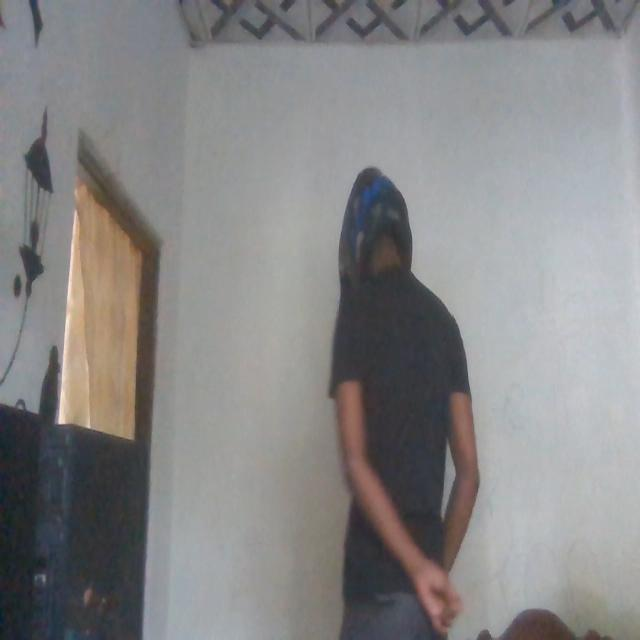Helmet_Wearer: (333, 161, 413, 338)
Person: (323, 170, 495, 640)
